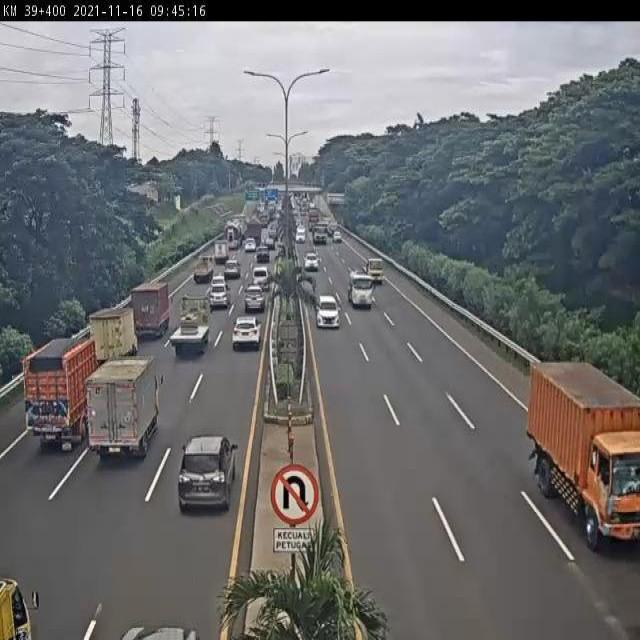car: (175, 436, 235, 517), (229, 320, 261, 356), (243, 288, 266, 319), (206, 291, 226, 316), (221, 260, 240, 283), (207, 279, 225, 296)
small bus: (251, 267, 270, 292)
small truck: (78, 364, 156, 468), (83, 312, 133, 373), (191, 255, 213, 281)
truck-m-: (523, 360, 640, 553), (20, 342, 95, 454), (167, 298, 210, 358), (126, 286, 167, 342)
